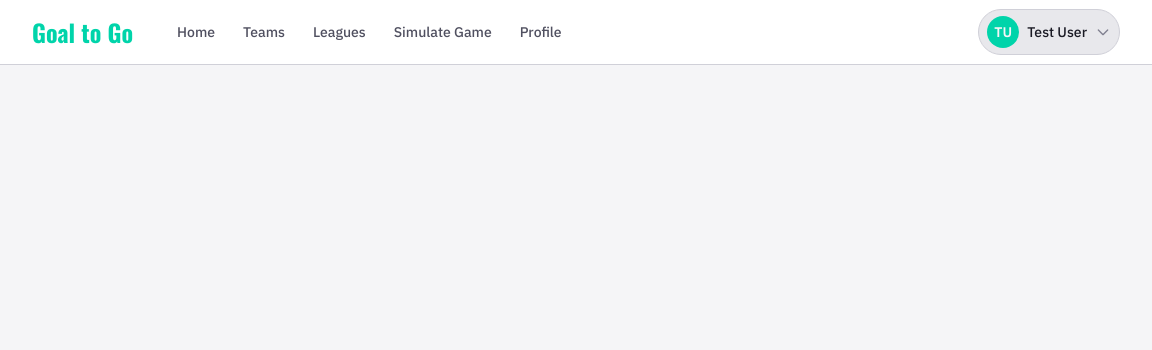
Navigation › User Avatar Menu Integration › opens avatar menu dropdown on click
# Click avatar trigger
What coordinates should you click on to do the following:
click the button with test id "user-avatar-menu-trigger"
I would click on:
 (1049, 32)
Its box is left=978, top=9, right=1120, bottom=55.
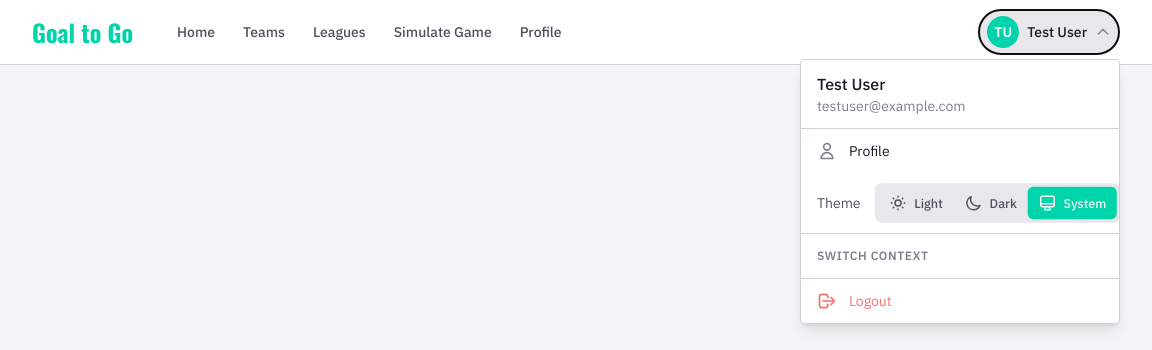
Expected: the menu with test id "user-avatar-menu-dropdown" is shown, left=800, top=59, right=1120, bottom=324
Expected: the menu item with test id "avatar-menu-profile-link" is shown, left=817, top=141, right=890, bottom=161
Expected: the menu item with test id "avatar-menu-logout" is shown, left=801, top=279, right=1119, bottom=323
